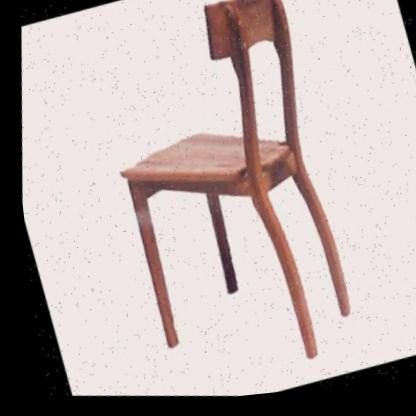Chair: (9, 0, 416, 415)
